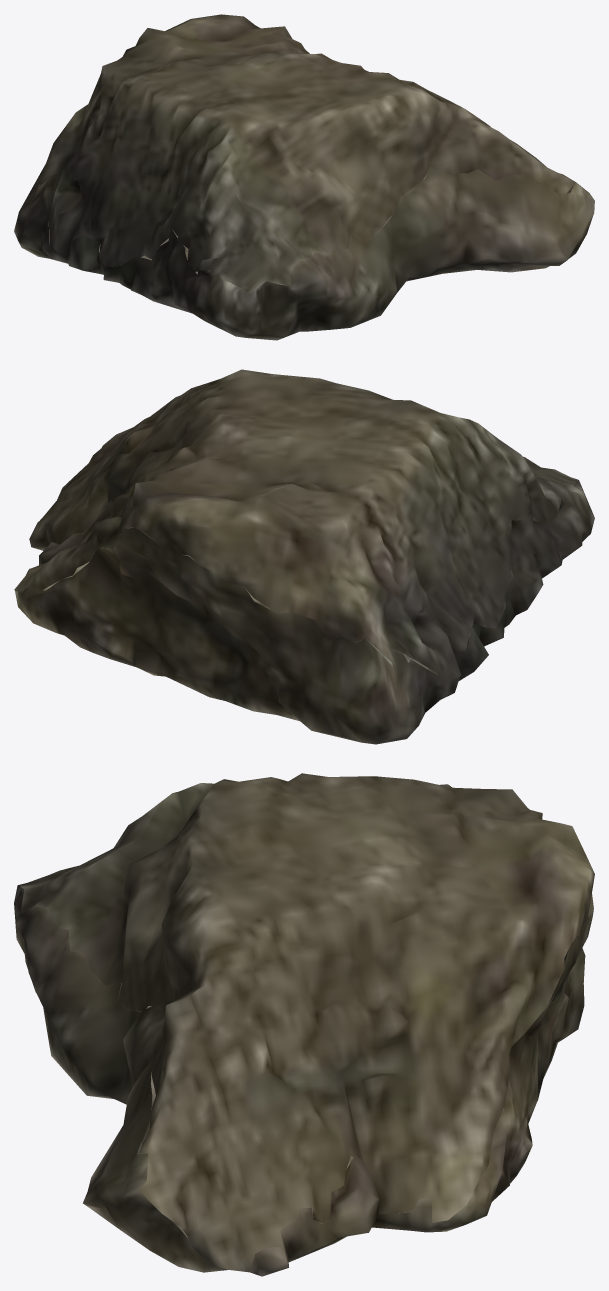
File: rock_mossy.glb
3 renders of one model, top to bottom at view 1: azimuth 30°, elevation 25°; view 2: azimuth 150°, elevation 25°; view 3: azimuth 270°, elevation 25°, orthographic. The views are drawn at different scales.
Parts seen in each view (by area): view 1: rock_moss_set_02_rock08; view 2: rock_moss_set_02_rock08; view 3: rock_moss_set_02_rock08.
Boxes of the visible parts, box(x1,y1,x2,y2) form: rock_moss_set_02_rock08: box(14, 14, 594, 340); rock_moss_set_02_rock08: box(14, 369, 594, 744); rock_moss_set_02_rock08: box(14, 773, 594, 1276).
Size of the model in its own units: 1.21 by 0.5232 by 0.9834.
1 material, 1 textured.
